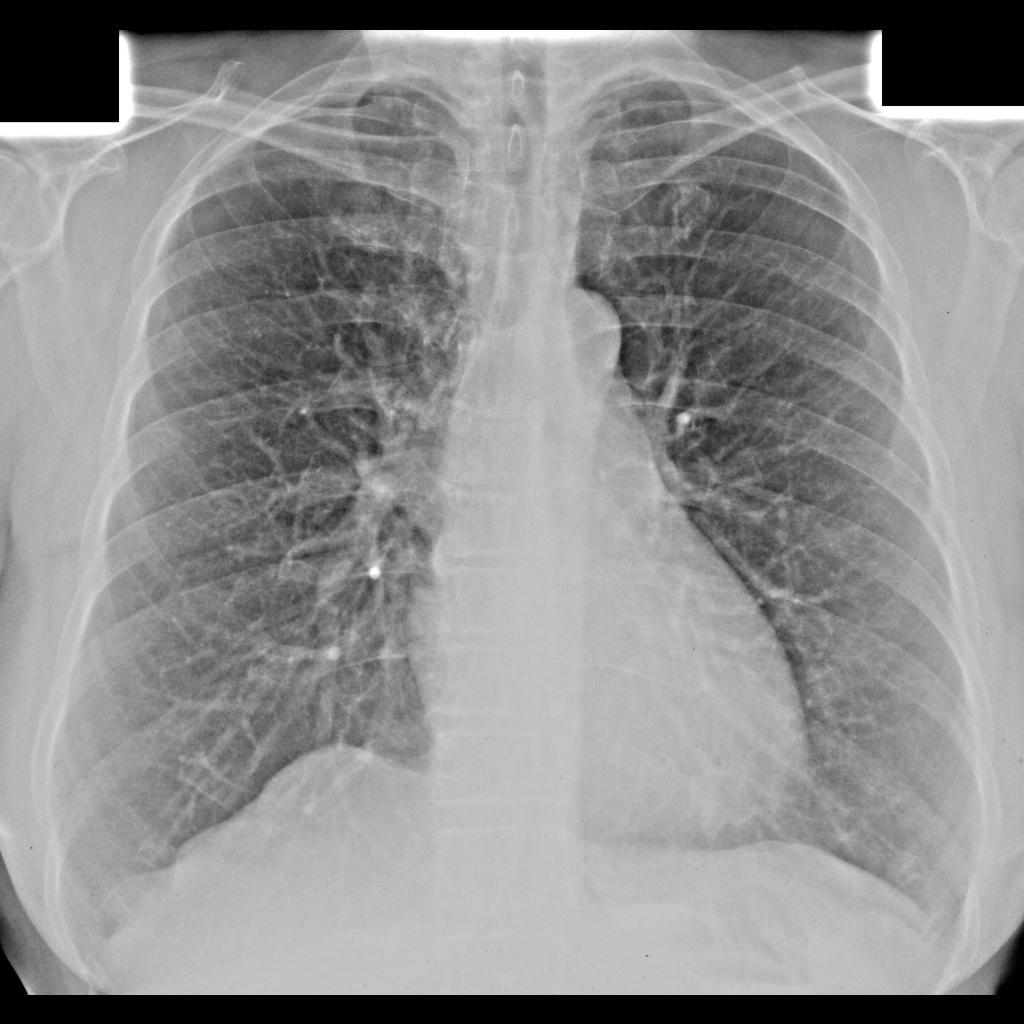Nodule: (690, 757, 761, 828)
